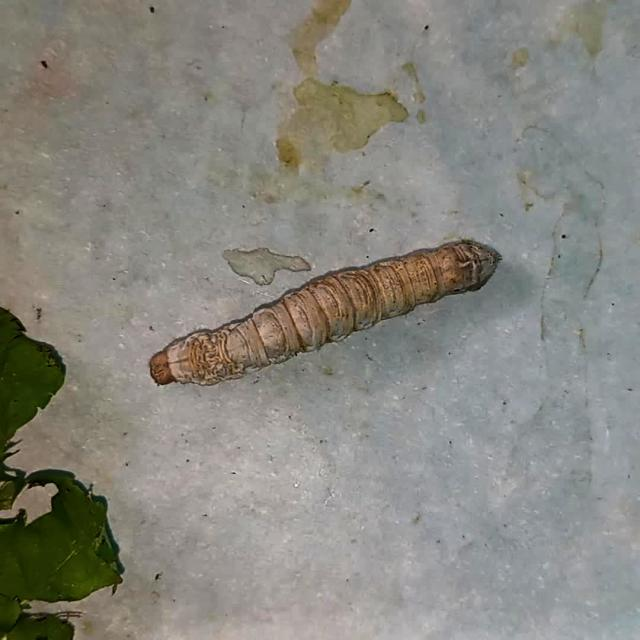Grasserie: (114, 221, 513, 413)
